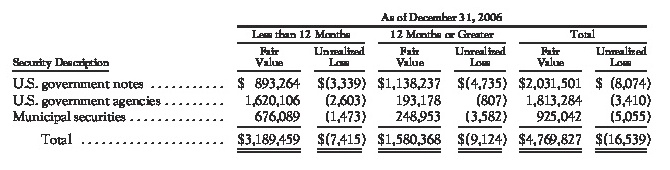table: (0, 0, 670, 170)
